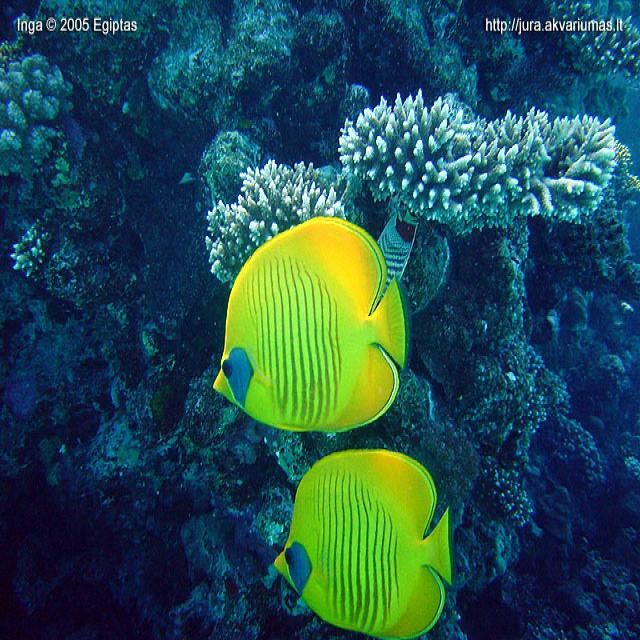ButterflyFish: (215, 215, 405, 429), (273, 451, 455, 640)
